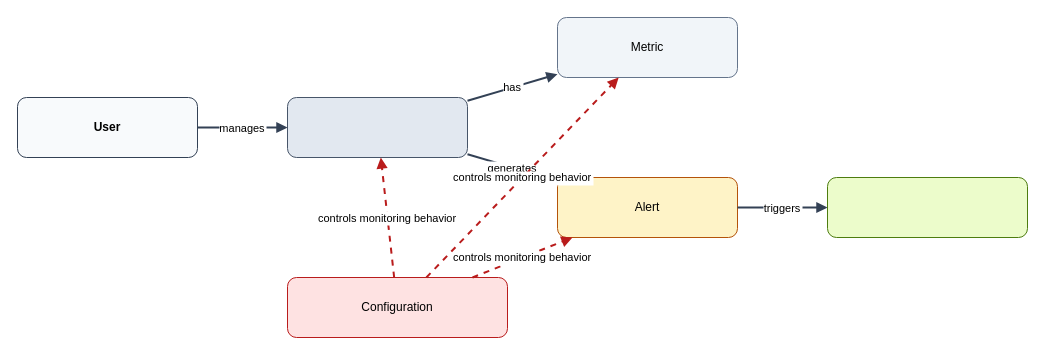
Some shapes in this 1045 by 355 pixel diagram are drawn without their labels. Here are the shapes that lost their labels. From the top down, the box of each, then its label:
(286, 96, 468, 158): Device
(826, 176, 1028, 238): Notification
